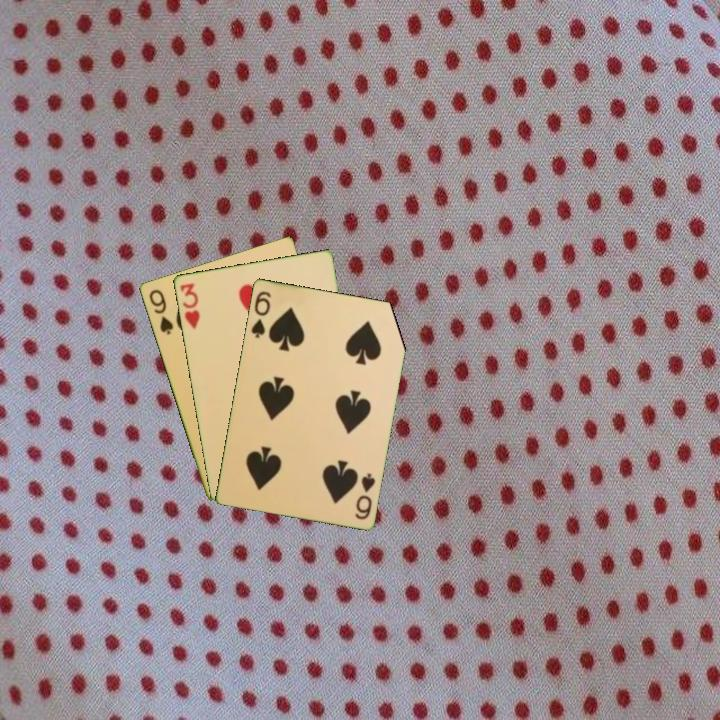3h: (176, 279, 202, 332)
6s: (247, 287, 274, 340), (351, 469, 378, 522)
9s: (145, 285, 176, 337)
